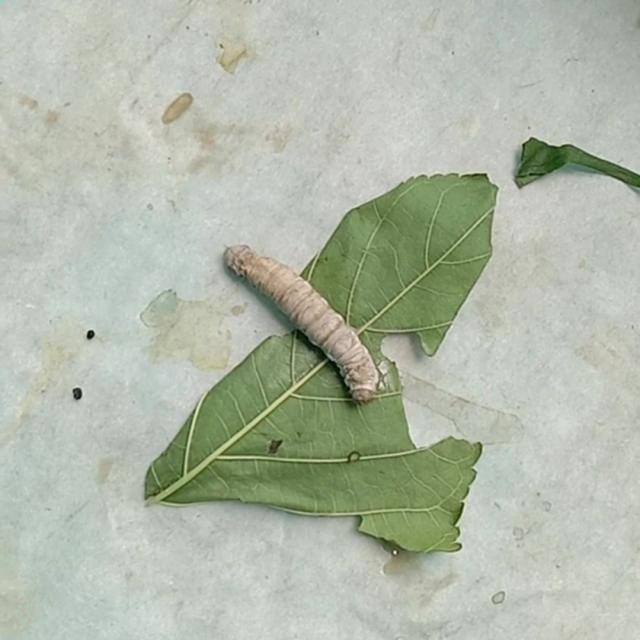Grasserie: (194, 205, 433, 438)
